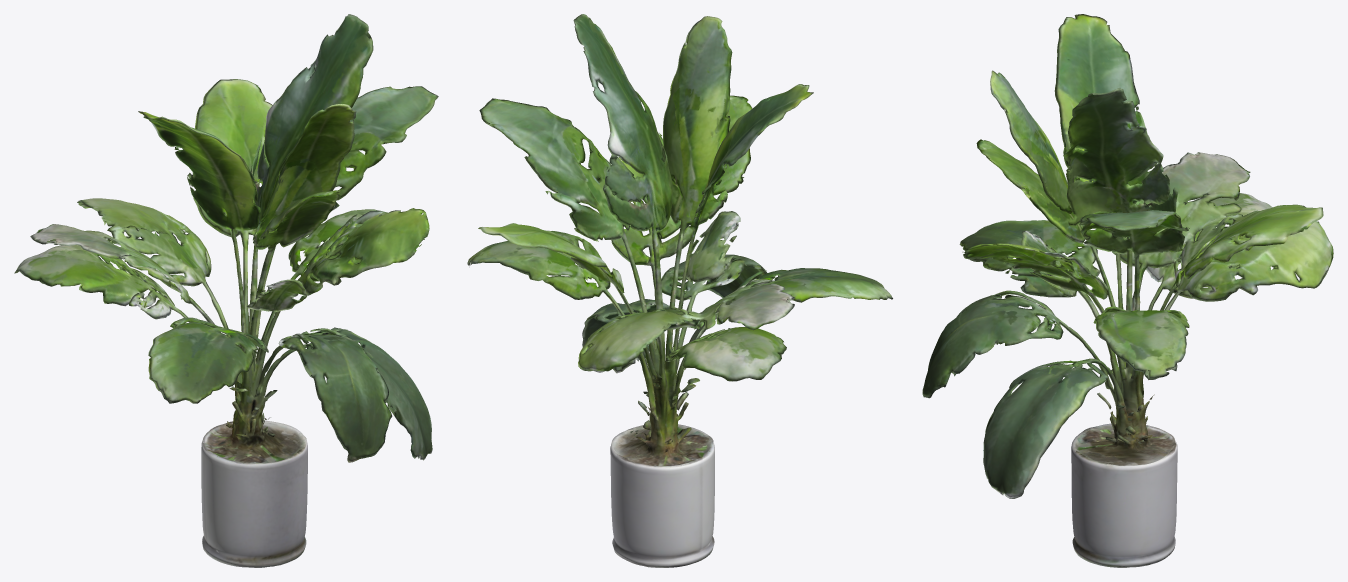
Rendered from leafy_elegance.glb.
3 renders of one model, left to right at view 1: azimuth 30°, elevation 25°; view 2: azimuth 150°, elevation 25°; view 3: azimuth 270°, elevation 25°, orthographic.
Bounding box in the file's own units: 1.46 × 2.01 × 1.48.
Materials: 1 (1 with a texture image).
